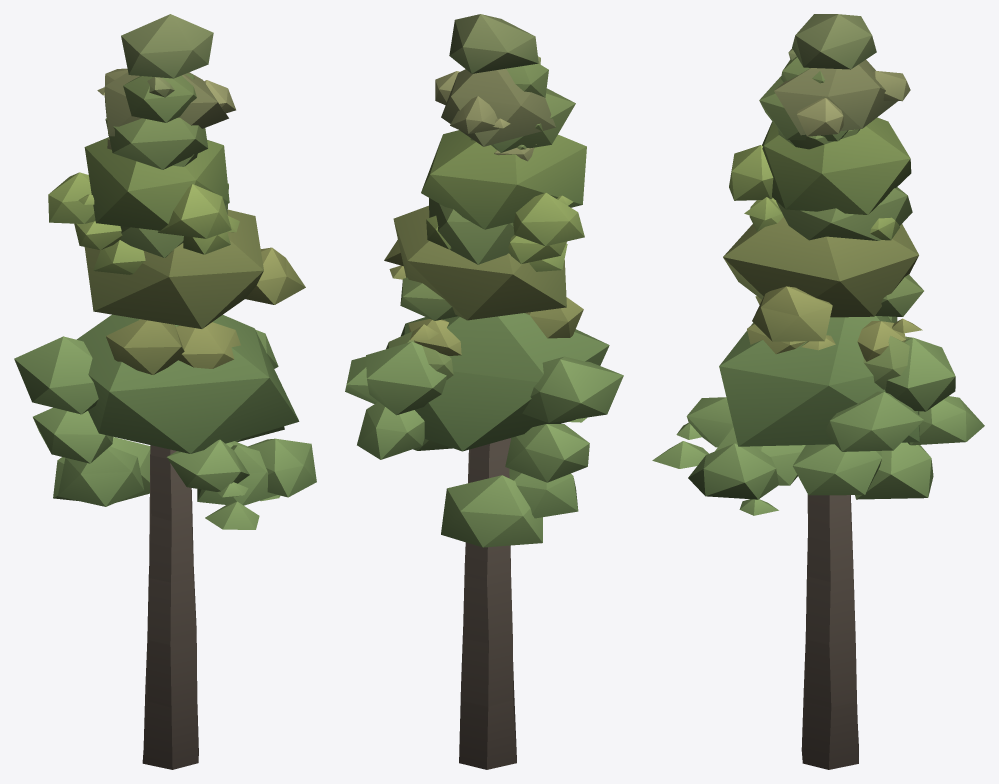
File: env_tree_prairie_tall_01.glb
3 renders of one model, left to right at view 1: azimuth 30°, elevation 25°; view 2: azimuth 150°, elevation 25°; view 3: azimuth 270°, elevation 25°, orthographic.
Visible parts, largest first — view 1: tree_prairie_tall_01; view 2: tree_prairie_tall_01; view 3: tree_prairie_tall_01.
Part boxes in pixels (<box>): tree_prairie_tall_01: <box>14,14,316,769</box>; tree_prairie_tall_01: <box>345,14,623,769</box>; tree_prairie_tall_01: <box>652,14,984,769</box>.
Bounding box in the file's own units: 2.66 × 7.72 × 3.13.
